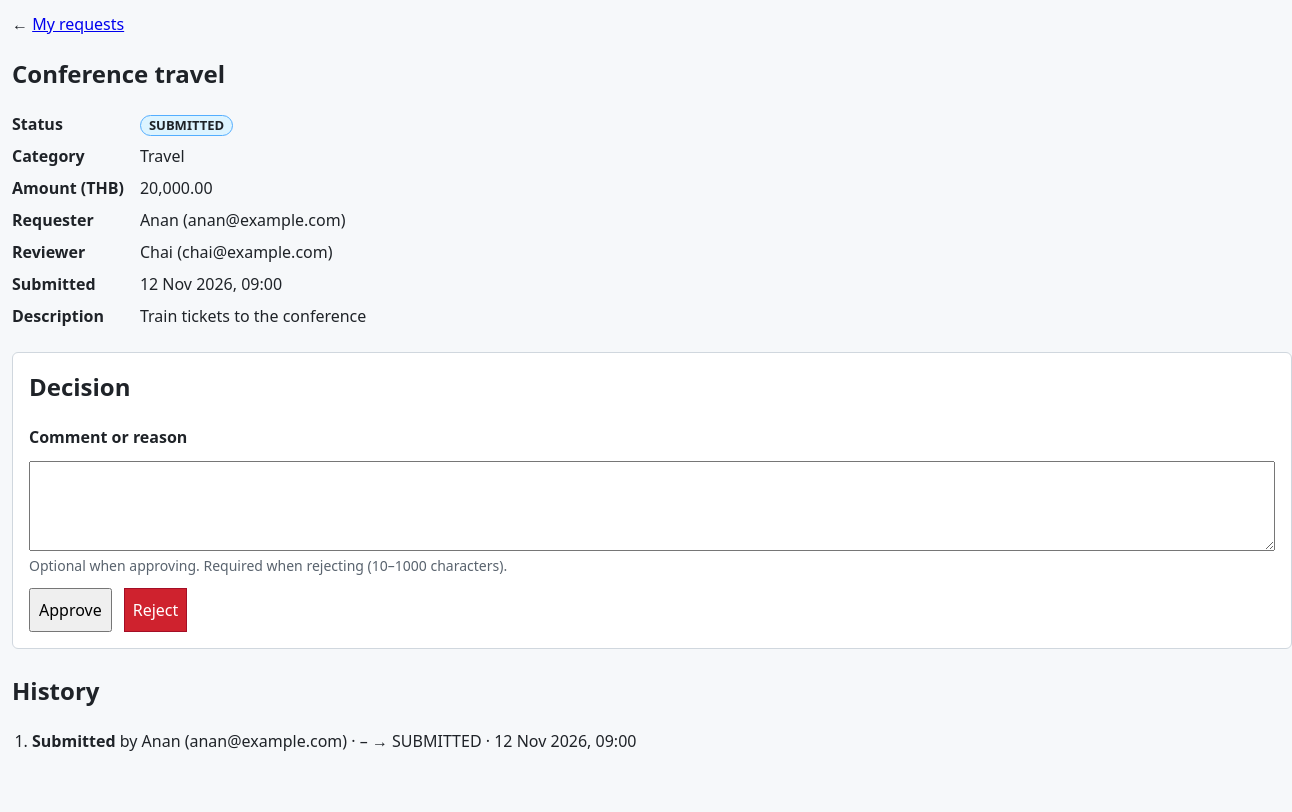
it: RequestDetailPage decisions (F-04b) › approves a 20,000.00 THB request without a comment
expect the element "Decision" is shown: met, box [12,352,1291,649]
Click the button "Approve" at [70, 610], box [29,588,112,632]
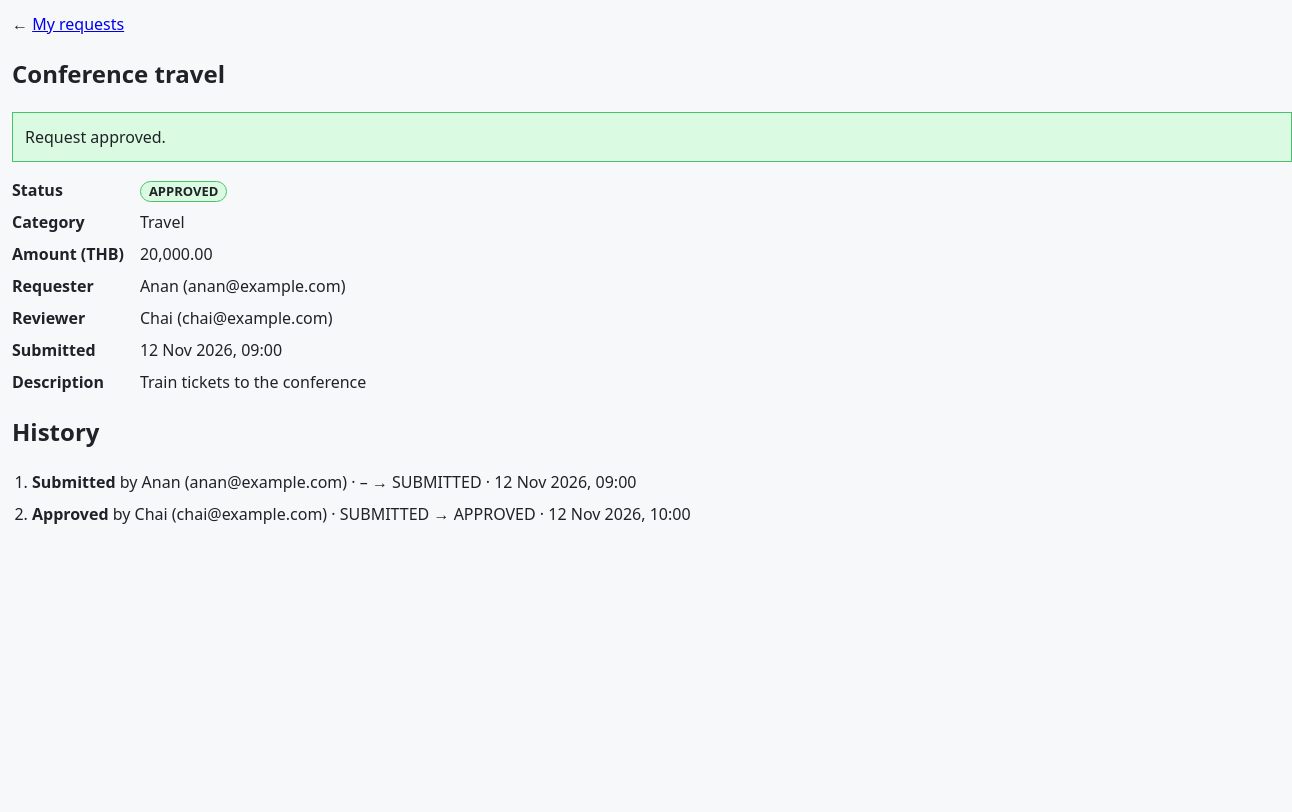
expect the message reads "Request approved.": met, box [25,126,166,148]
